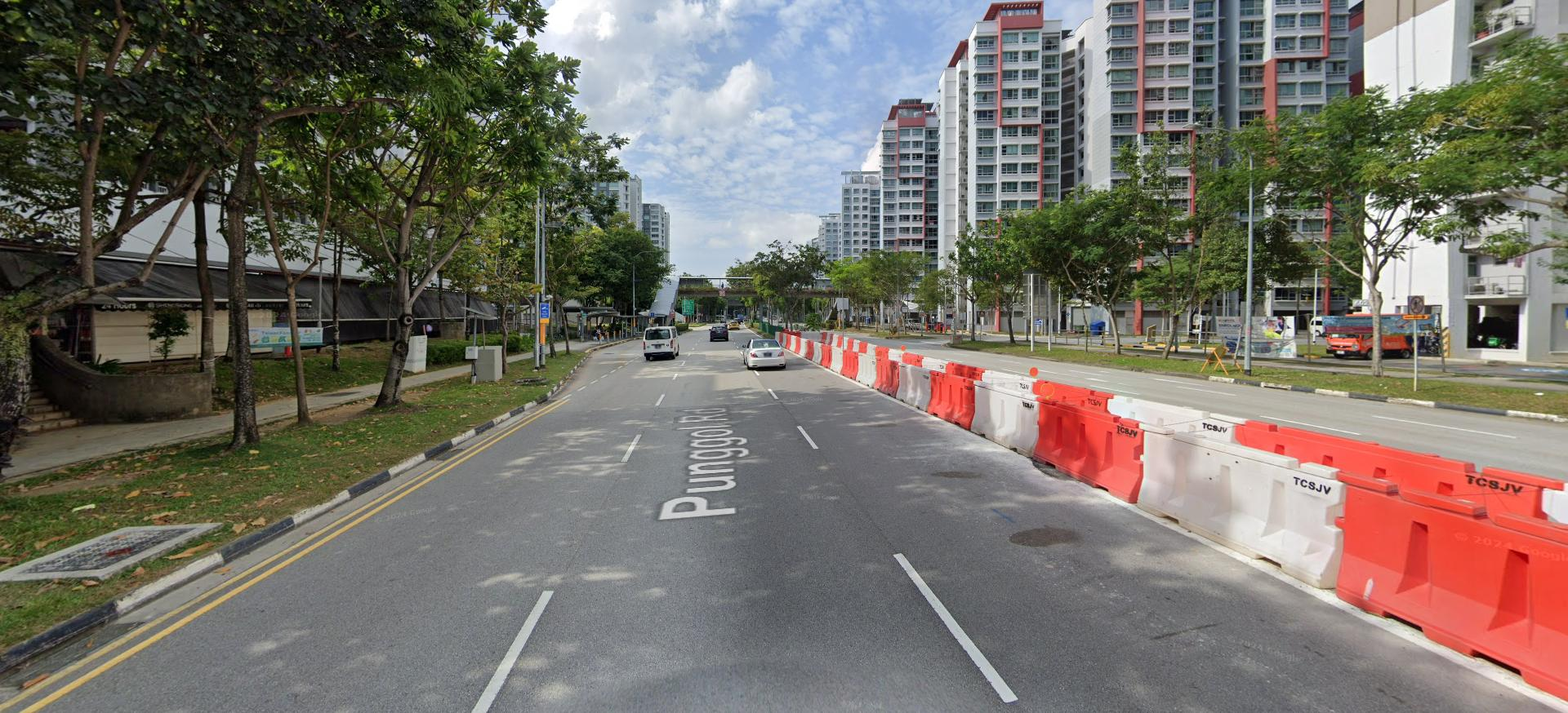normal: (0, 622, 152, 689)
